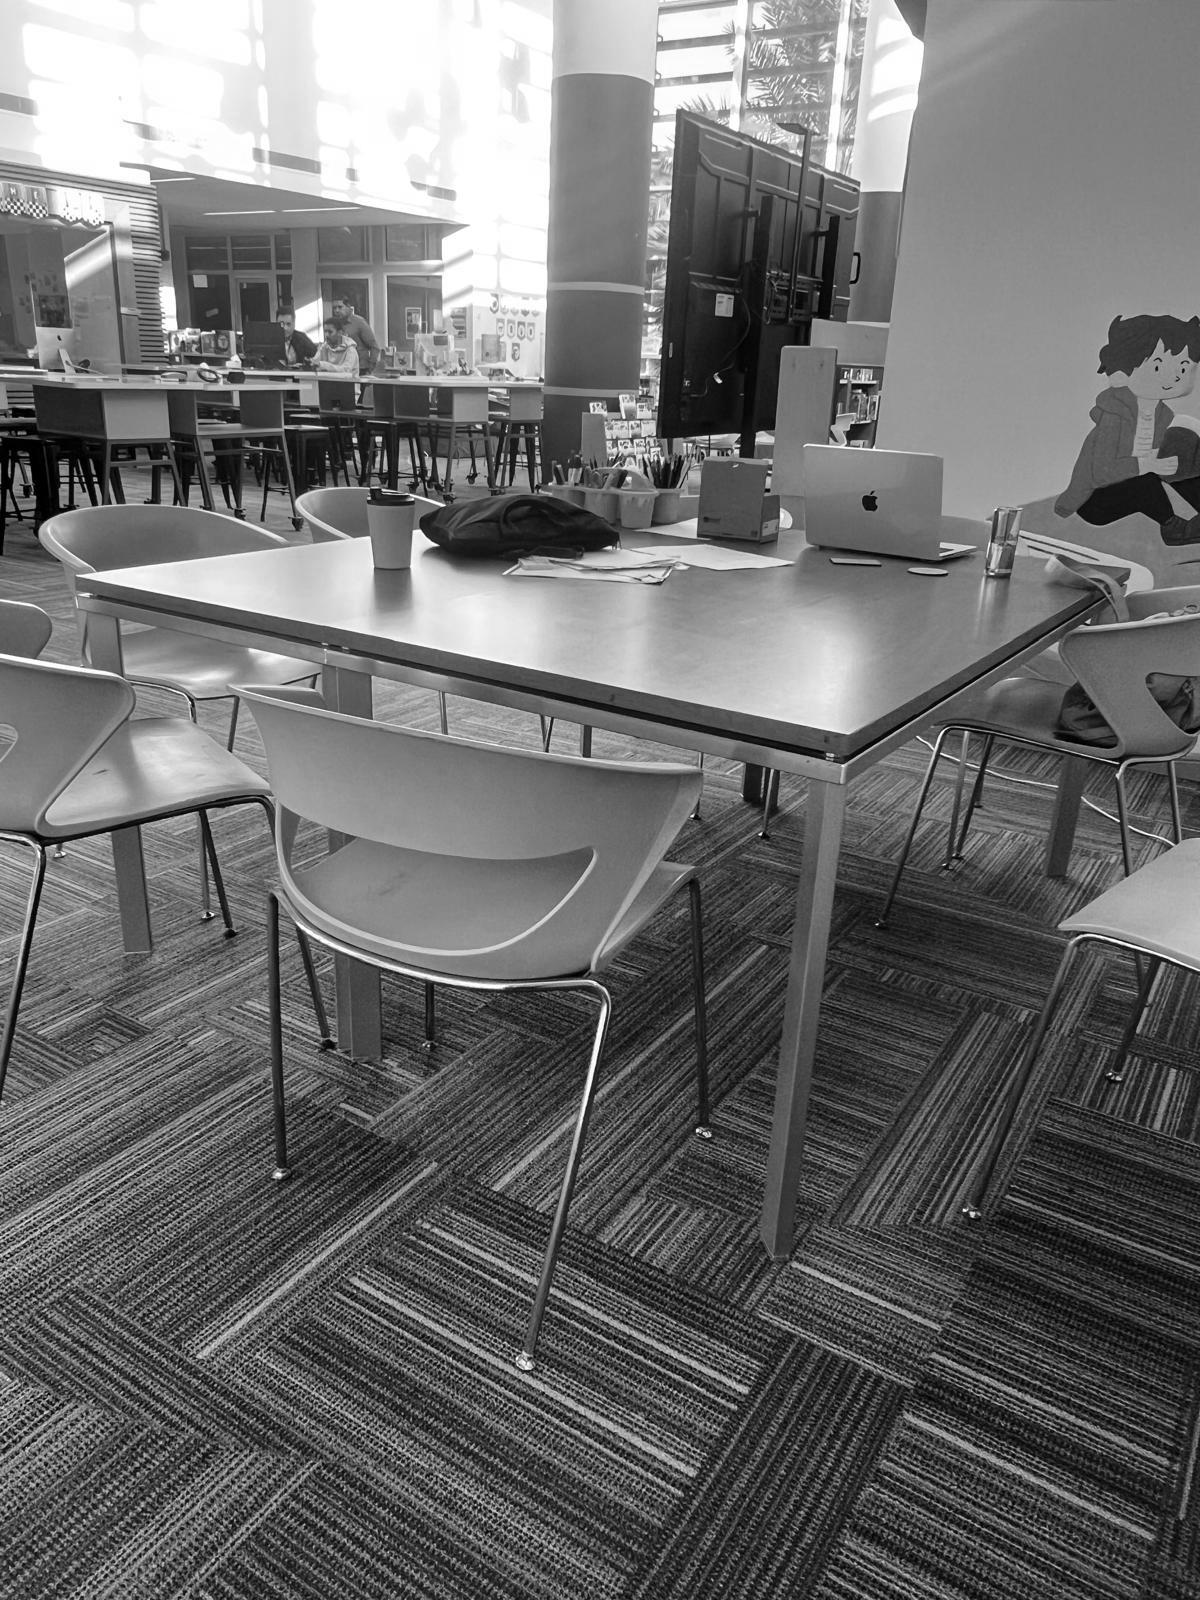Chair: (0, 602, 710, 1367), (966, 592, 1199, 770), (1060, 838, 1199, 971), (40, 503, 284, 578)
Pillar: (545, 0, 655, 459)
Table: (81, 530, 1093, 1256), (156, 372, 292, 519), (374, 374, 495, 499), (33, 377, 173, 481), (494, 380, 543, 423)
Tv: (659, 110, 858, 445)
Wall: (881, 0, 1199, 513), (881, 0, 1199, 505), (0, 163, 163, 363)
